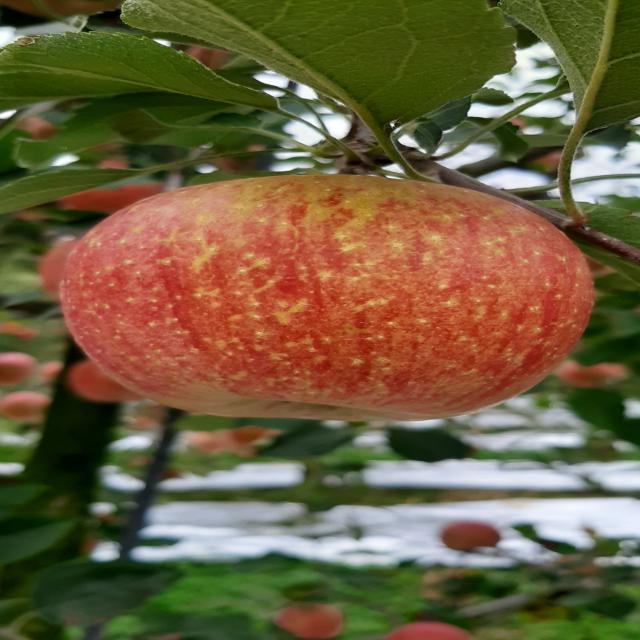fresh: (43, 165, 609, 426)
